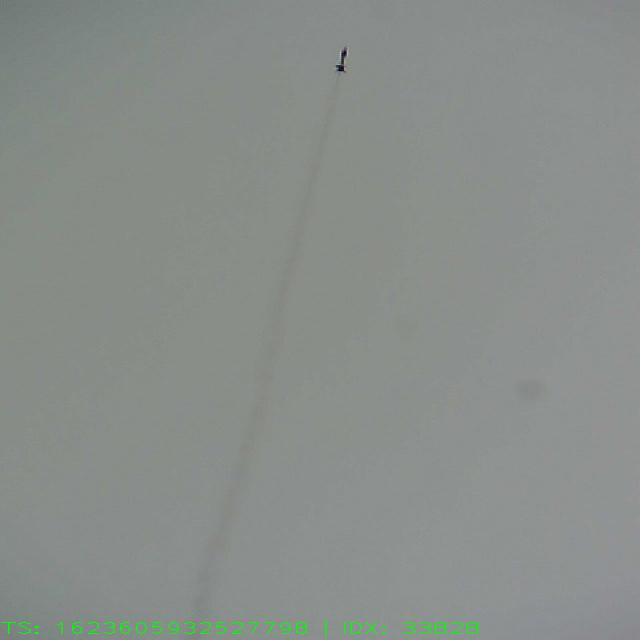Rocket: (334, 45, 349, 72)
